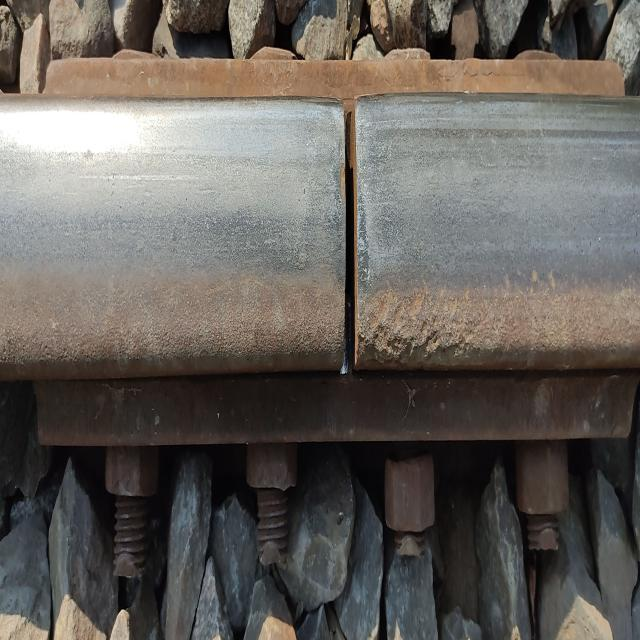Good Joint: (35, 16, 630, 575)
